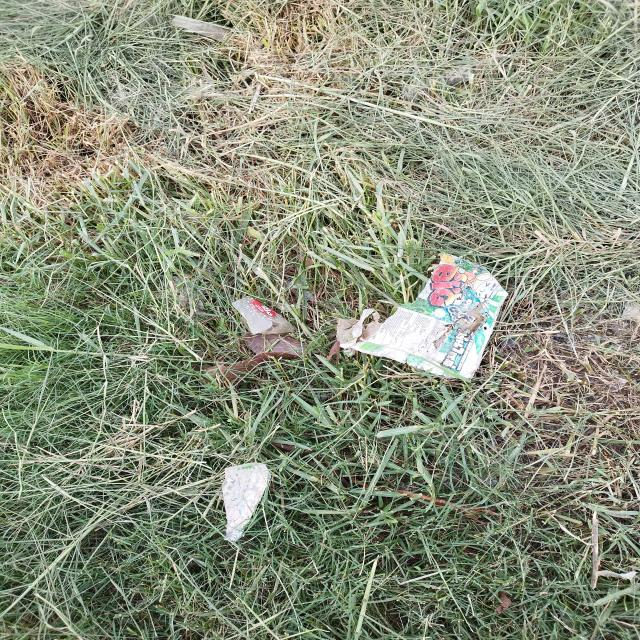packet: (232, 296, 296, 334)
snack package: (336, 254, 508, 379)
